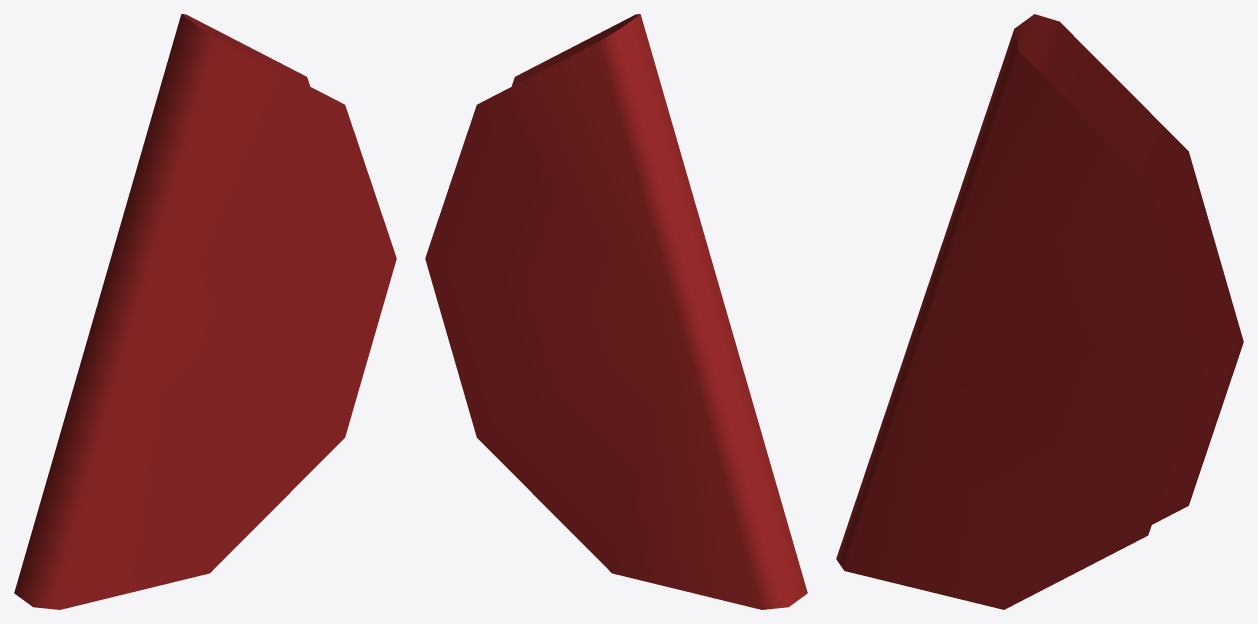
Rendered from ObstaculoPlaqueta2_GAME.fbx.
3 renders of one model, left to right at view 1: azimuth 30°, elevation 25°; view 2: azimuth 150°, elevation 25°; view 3: azimuth 330°, elevation 25°, orthographic. The views are drawn at different scales.
Parts seen in each view (by area): view 1: ObstaculoHemacia2; view 2: ObstaculoHemacia2; view 3: ObstaculoHemacia2.
Part boxes in pixels (x1,y1,x2,y2): ObstaculoHemacia2: (14, 14, 396, 609); ObstaculoHemacia2: (425, 14, 807, 609); ObstaculoHemacia2: (836, 14, 1243, 609).
Bounding box in the file's own units: 327 × 476 × 60.96.
